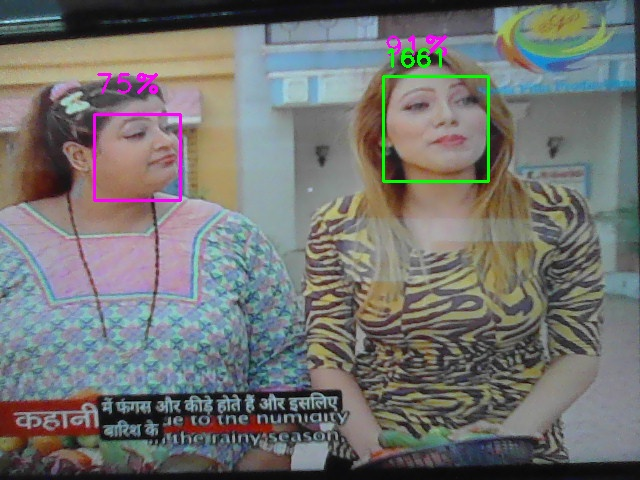fake: (383, 76, 489, 182)
